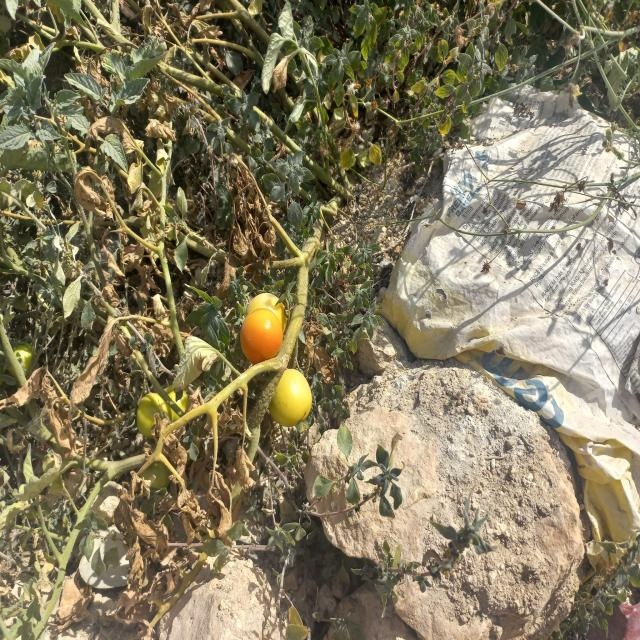Plastic bag - wrapper: (378, 82, 640, 587)
